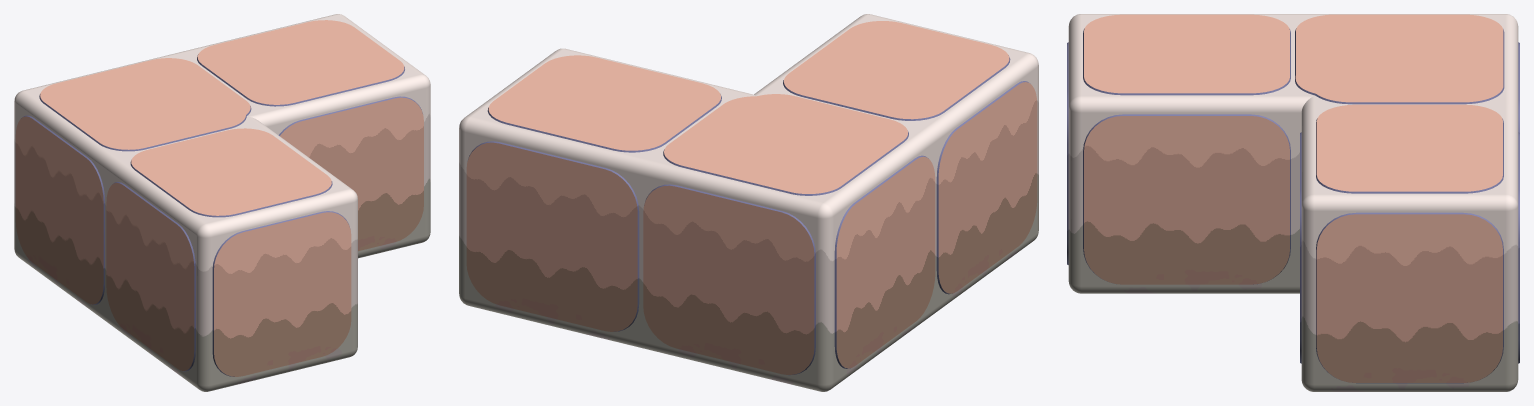
The model's file is R4B_CornerL3.glb.
3 renders of one model, left to right at view 1: azimuth 30°, elevation 25°; view 2: azimuth 150°, elevation 25°; view 3: azimuth 270°, elevation 25°, orthographic. The views are drawn at different scales.
Visible parts, largest first — view 1: R4B_CornerL3; view 2: R4B_CornerL3; view 3: R4B_CornerL3.
Boxes of the visible parts, x1,y1,x2,y2 form: R4B_CornerL3: (14,14,430,391); R4B_CornerL3: (459,14,1038,391); R4B_CornerL3: (1067,14,1519,391).
Bounding box in the file's own units: 1.07 × 0.52 × 1.07.
3 materials, 3 textured.
